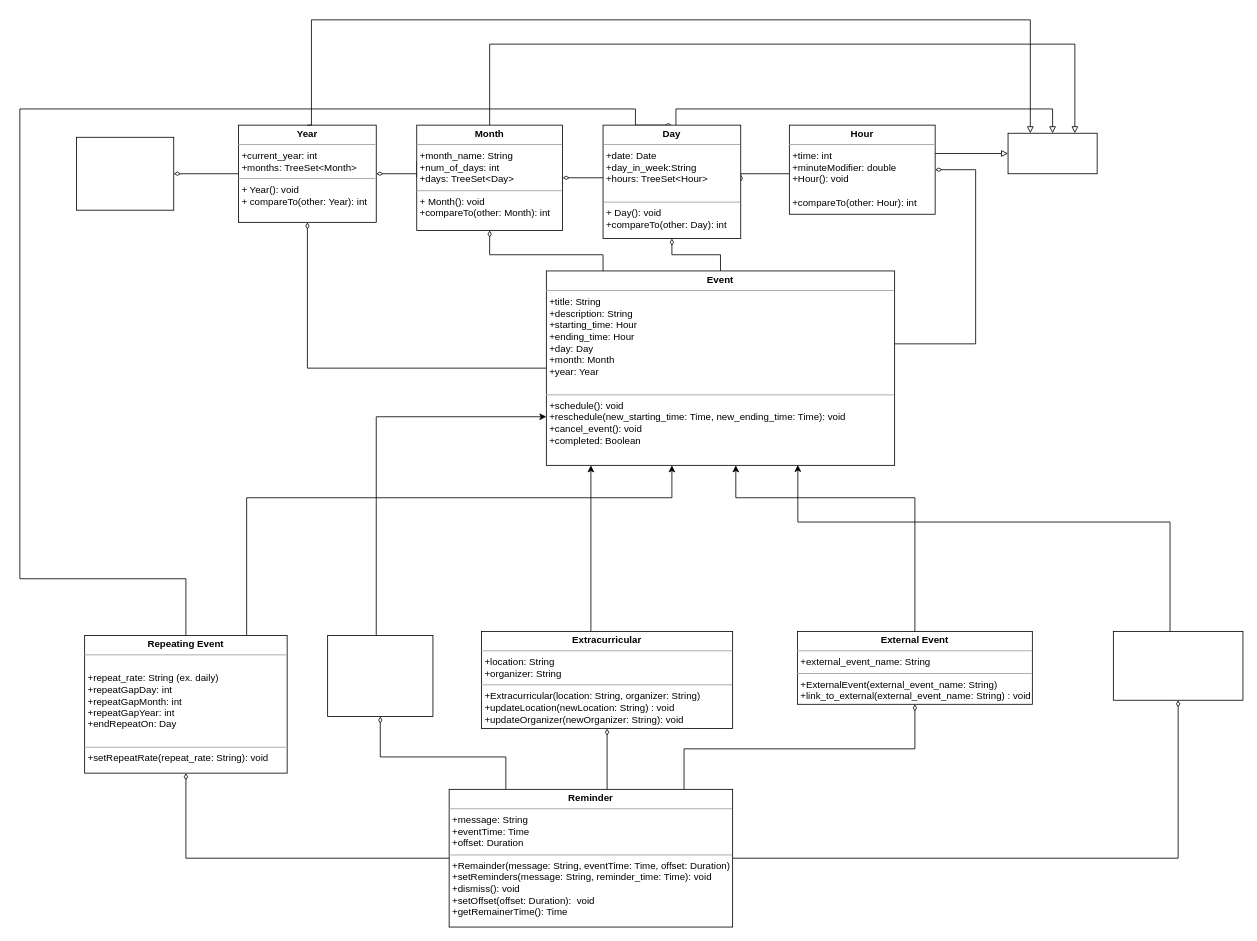
The diagram is 1257 pixels wide and 941 high, and some of its shapes have lost their labels. The centre of each missing label's shape, as x and y in pixels:
Calendar + Years: TreeSet<> + Calendar(): void: pixel 125 173
Non-repeating Event + field: Type + method(): Type: pixel 380 675
Other + field: Type + method(): Type: pixel 1178 665
«interface» Comparable: pixel 1052 153
